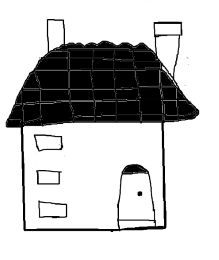chimney: (144, 18, 191, 78), (34, 11, 70, 52)
door: (106, 162, 163, 235)
open_window: (32, 197, 74, 223), (30, 131, 65, 156), (35, 161, 67, 187)
shaded_roof: (0, 36, 205, 125)
wall: (9, 119, 181, 240)
